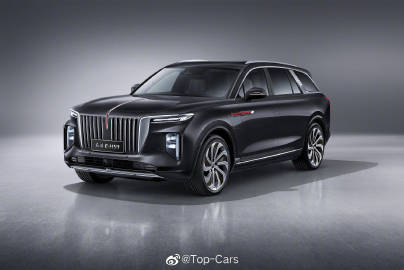other: (62, 58, 331, 196)
